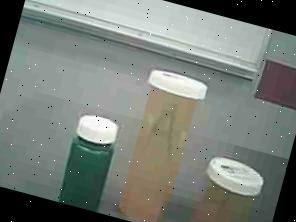Bottle A: (108, 60, 208, 222)
Bottle B: (179, 150, 270, 222)
Bottle C: (52, 105, 125, 213)
